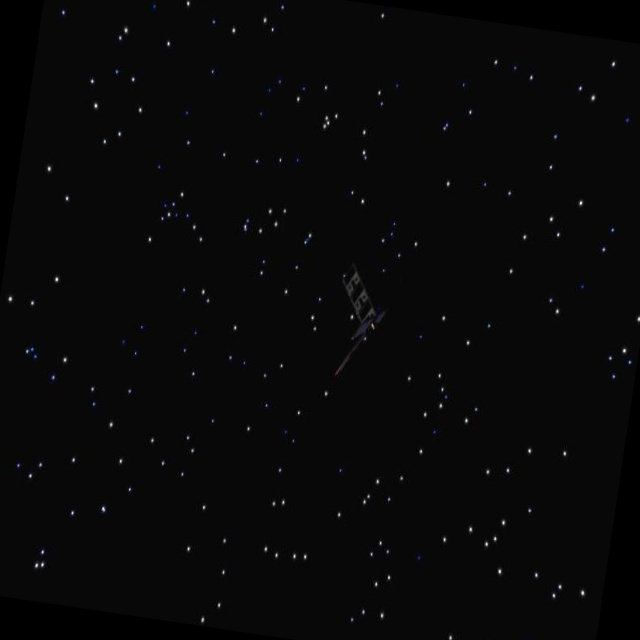satellite: (318, 262, 394, 388)
